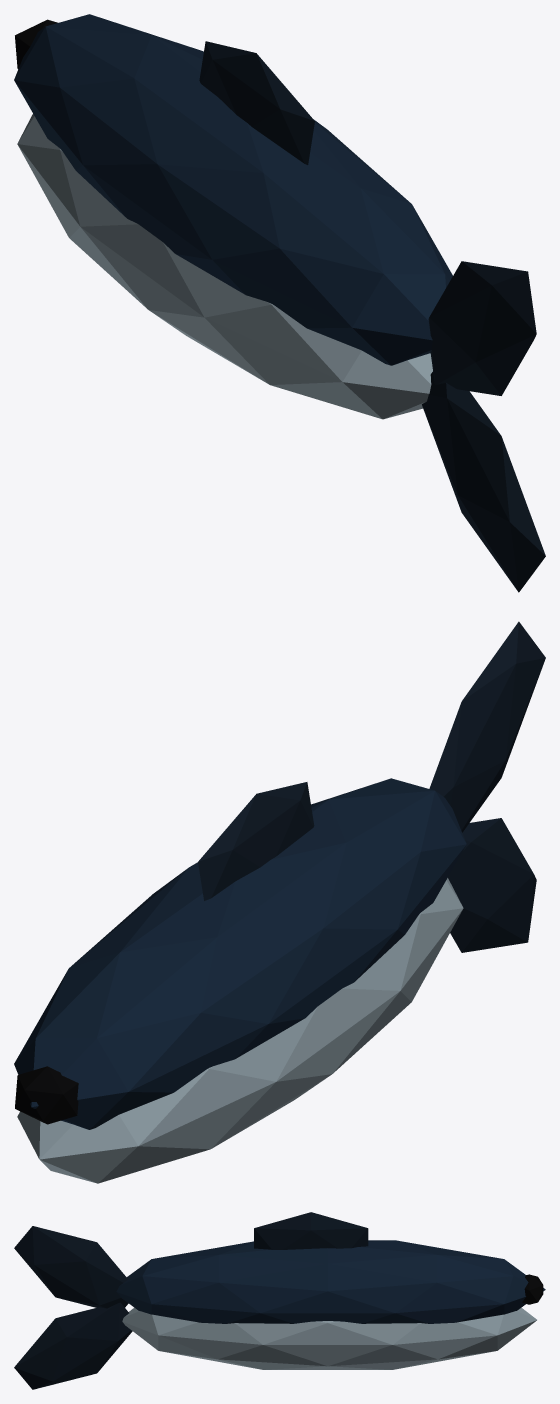
The model's file is fish_shoal.fbx.
3 views of the same model, one above another, from view 1: azimuth 30°, elevation 25°; view 2: azimuth 150°, elevation 25°; view 3: azimuth 270°, elevation 25° (orthographic). The views are drawn at different scales.
Visible parts, largest first — view 1: fish_shoal; view 2: fish_shoal; view 3: fish_shoal.
Part boxes in pixels (left/top/right/bottom): fish_shoal: left=14, top=14, right=545, bottom=592; fish_shoal: left=14, top=621, right=545, bottom=1183; fish_shoal: left=14, top=1212, right=545, bottom=1389.
Size of the model in its own units: 0.0704 by 0.1177 by 0.3171.
